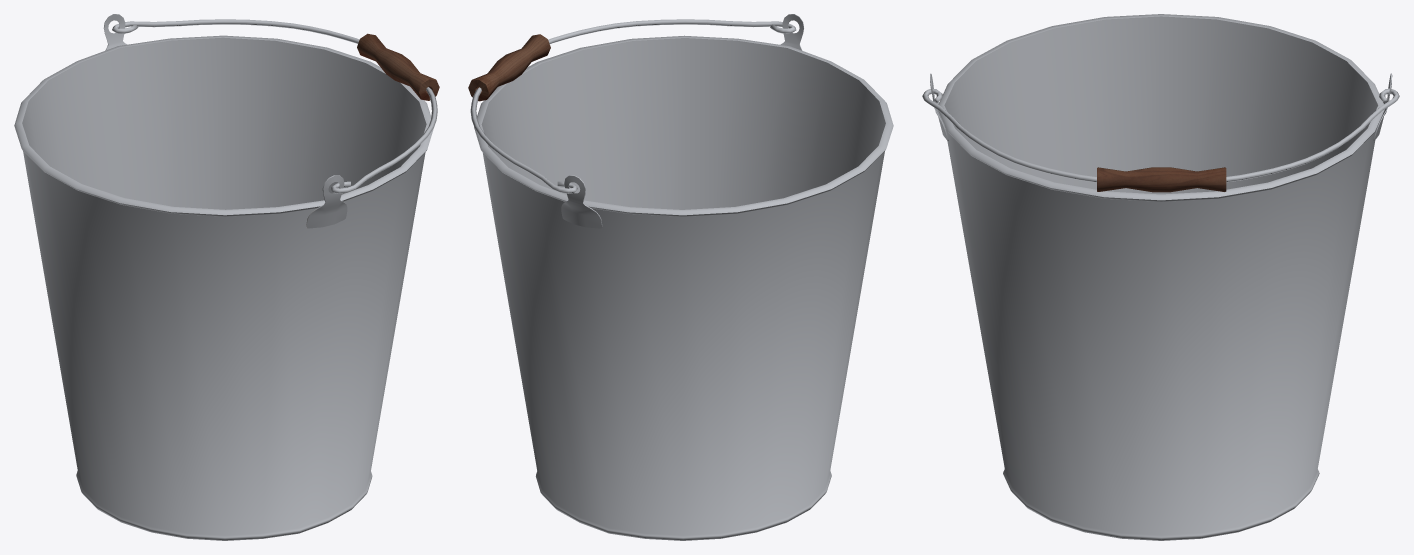
Rendered from metal_bucket.glb.
3 views of the same model, side by side, from view 1: azimuth 30°, elevation 25°; view 2: azimuth 150°, elevation 25°; view 3: azimuth 270°, elevation 25° (orthographic). The views are drawn at different scales.
Visible parts, largest first — view 1: bucket_LP, ruchka_metall_lp, ruchka_lp, ring_02_lp001; view 2: bucket_LP, ruchka_metall_lp, ruchka_lp, ring_02_lp002; view 3: bucket_LP, ruchka_lp, ruchka_metall_lp.
Part boxes in pixels (x1=…): bucket_LP: x1=14, y1=35, x2=433, y2=540; ruchka_metall_lp: x1=112, y1=19, x2=437, y2=193; ruchka_lp: x1=357, y1=33, x2=439, y2=100; ring_02_lp001: x1=306, y1=175, x2=347, y2=228; bucket_LP: x1=474, y1=35, x2=893, y2=540; ruchka_metall_lp: x1=470, y1=19, x2=796, y2=193; ruchka_lp: x1=468, y1=34, x2=550, y2=101; ring_02_lp002: x1=561, y1=175, x2=602, y2=228; bucket_LP: x1=938, y1=14, x2=1384, y2=540; ruchka_lp: x1=1097, y1=167, x2=1226, y2=192; ruchka_metall_lp: x1=922, y1=88, x2=1399, y2=182.
Bounding box in the file's own units: 36.28 × 36.38 × 39.2.
Materials: 1 (1 with a texture image).
